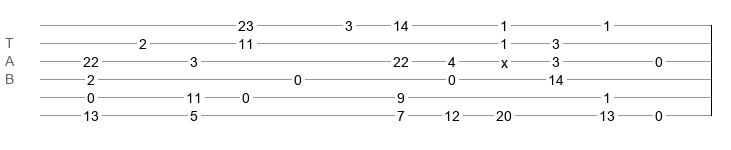0: (87, 90, 95, 100), (242, 90, 250, 100), (294, 72, 302, 82), (448, 72, 456, 82), (655, 108, 663, 118), (655, 54, 663, 64)
1: (500, 36, 508, 46), (500, 18, 508, 28), (603, 90, 611, 100), (603, 18, 611, 28)
11: (186, 90, 202, 100), (238, 36, 254, 46)
12: (444, 108, 460, 118)
13: (83, 108, 99, 118), (599, 108, 615, 118)
14: (393, 18, 409, 28), (548, 72, 564, 82)
2: (87, 72, 95, 82), (139, 36, 147, 46)
20: (496, 108, 512, 118)
22: (83, 54, 99, 64), (393, 54, 409, 64)
23: (238, 18, 254, 28)
3: (190, 54, 198, 64), (345, 18, 353, 28), (552, 36, 560, 46), (552, 54, 560, 64)
4: (448, 54, 456, 64)
5: (190, 108, 198, 118)
7: (397, 108, 405, 118)
9: (397, 90, 405, 100)
x: (501, 55, 508, 63)
